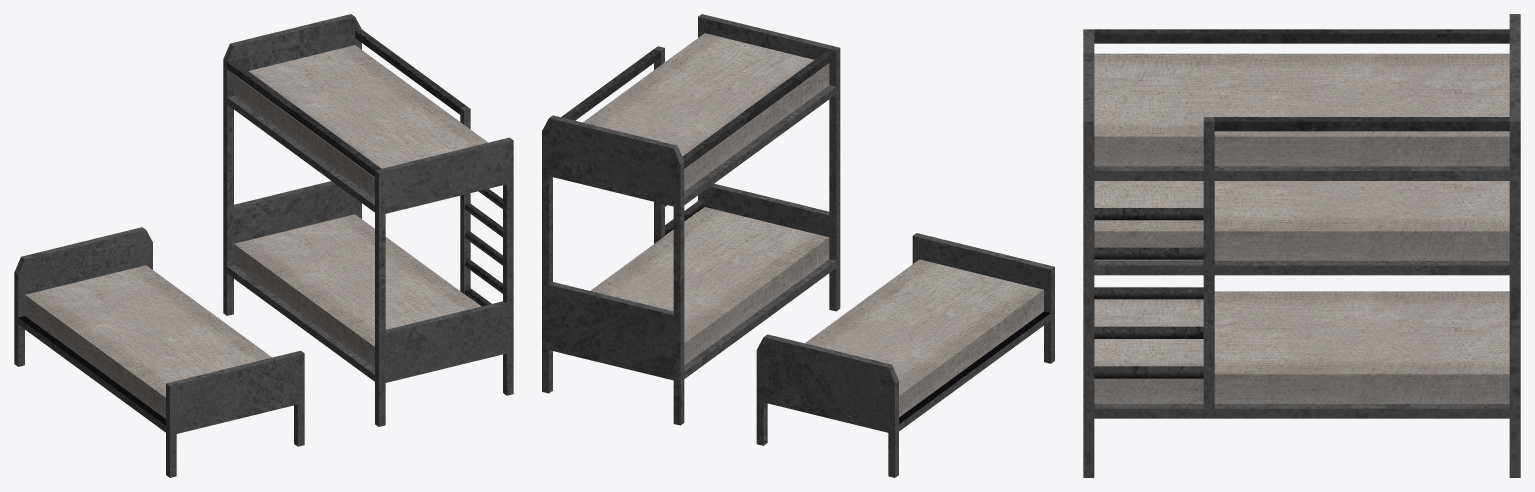
File: Beds.fbx
3 views of the same model, side by side, from view 1: azimuth 30°, elevation 25°; view 2: azimuth 150°, elevation 25°; view 3: azimuth 270°, elevation 25° (orthographic). The views are drawn at different scales.
Visible parts, largest first — view 1: BunkBed, SingleBed; view 2: BunkBed, SingleBed; view 3: BunkBed, SingleBed.
Part boxes in pixels (x1,y1,x2,y2): BunkBed: [223, 14, 513, 426]; SingleBed: [14, 227, 304, 477]; BunkBed: [542, 14, 840, 425]; SingleBed: [756, 233, 1054, 477]; BunkBed: [1083, 14, 1520, 477]; SingleBed: [1094, 181, 1509, 275].
Size of the model in its own units: 510 by 380 by 400.
